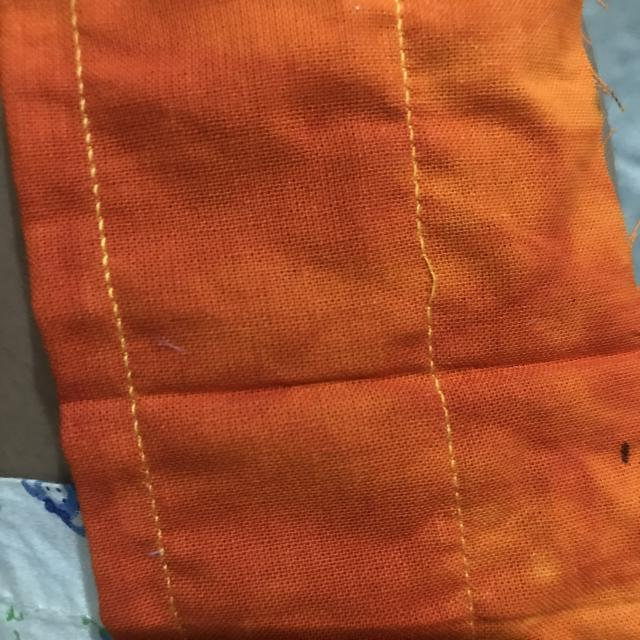Skip: (413, 237, 464, 310)
